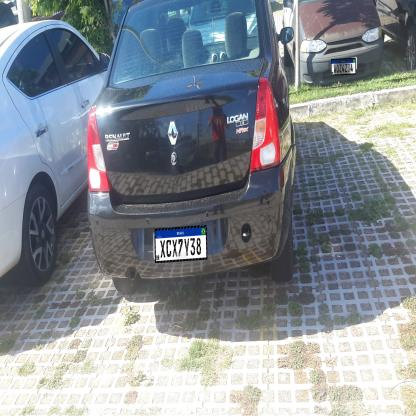PlacaM: (154, 225, 208, 263), (331, 58, 356, 75)
